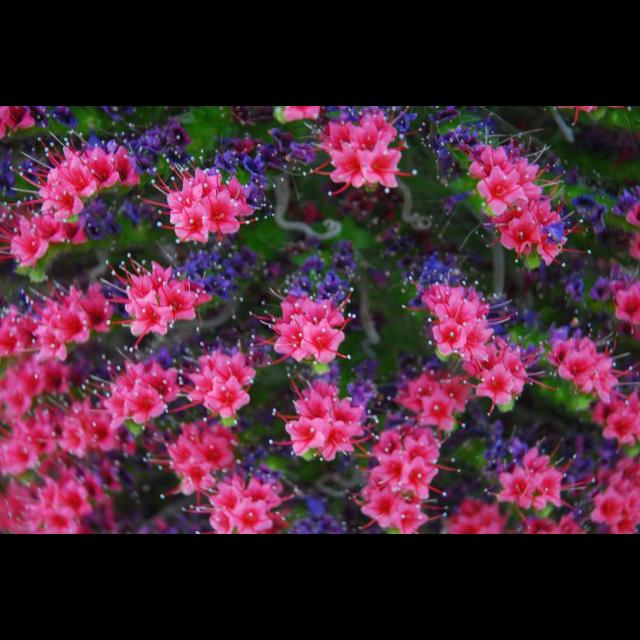Flower: (1, 106, 640, 534), (276, 376, 369, 469)
